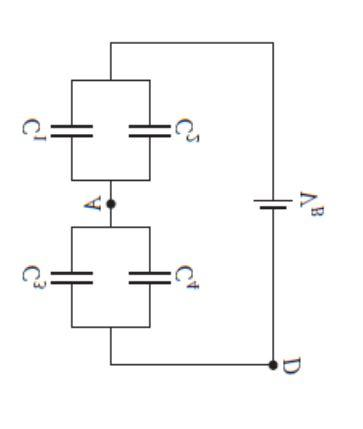Capacitor: (122, 106, 171, 150)
